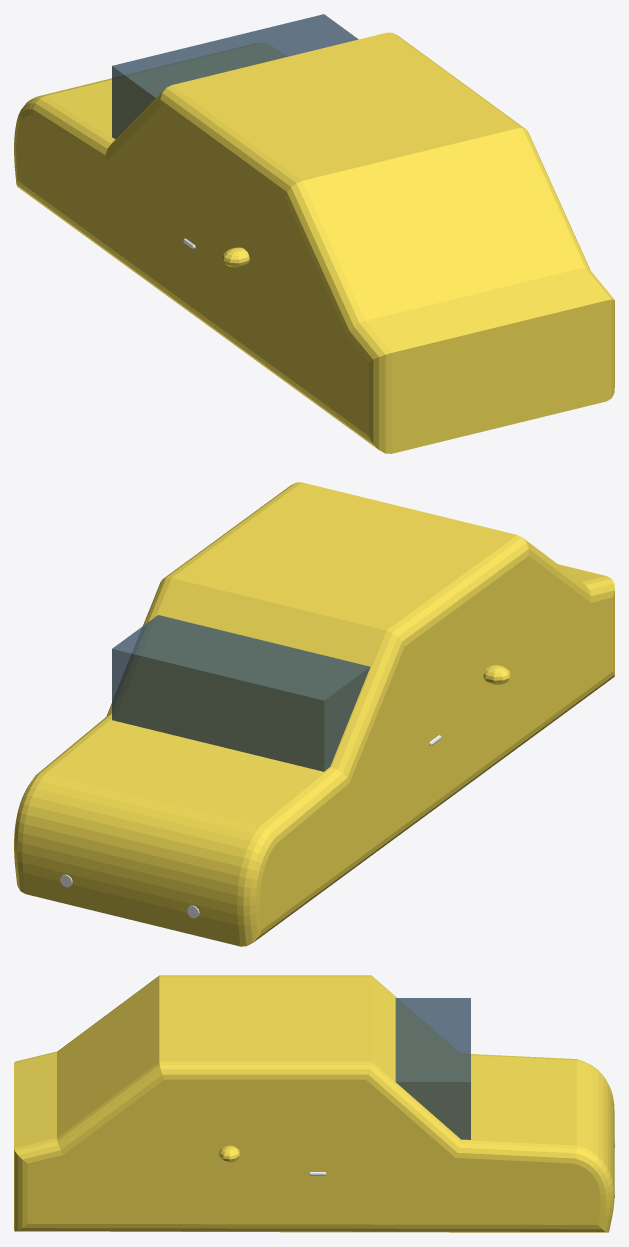
Rendered from veh_taxi.glb.
3 renders of one model, top to bottom at view 1: azimuth 30°, elevation 25°; view 2: azimuth 150°, elevation 25°; view 3: azimuth 270°, elevation 25°, orthographic. The views are drawn at different scales.
Visible parts, largest first — view 1: veh_taxi; view 2: veh_taxi; view 3: veh_taxi.
Boxes of the visible parts, x1,y1,x2,y2 form: veh_taxi: (14, 14, 614, 453); veh_taxi: (14, 482, 614, 946); veh_taxi: (14, 975, 614, 1232).
Size of the model in its own units: 2.17 by 1.51 by 4.86.
